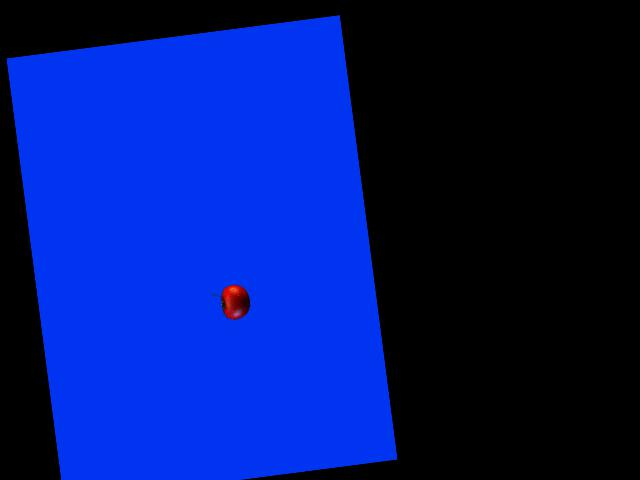tomato: (219, 283, 252, 321)
